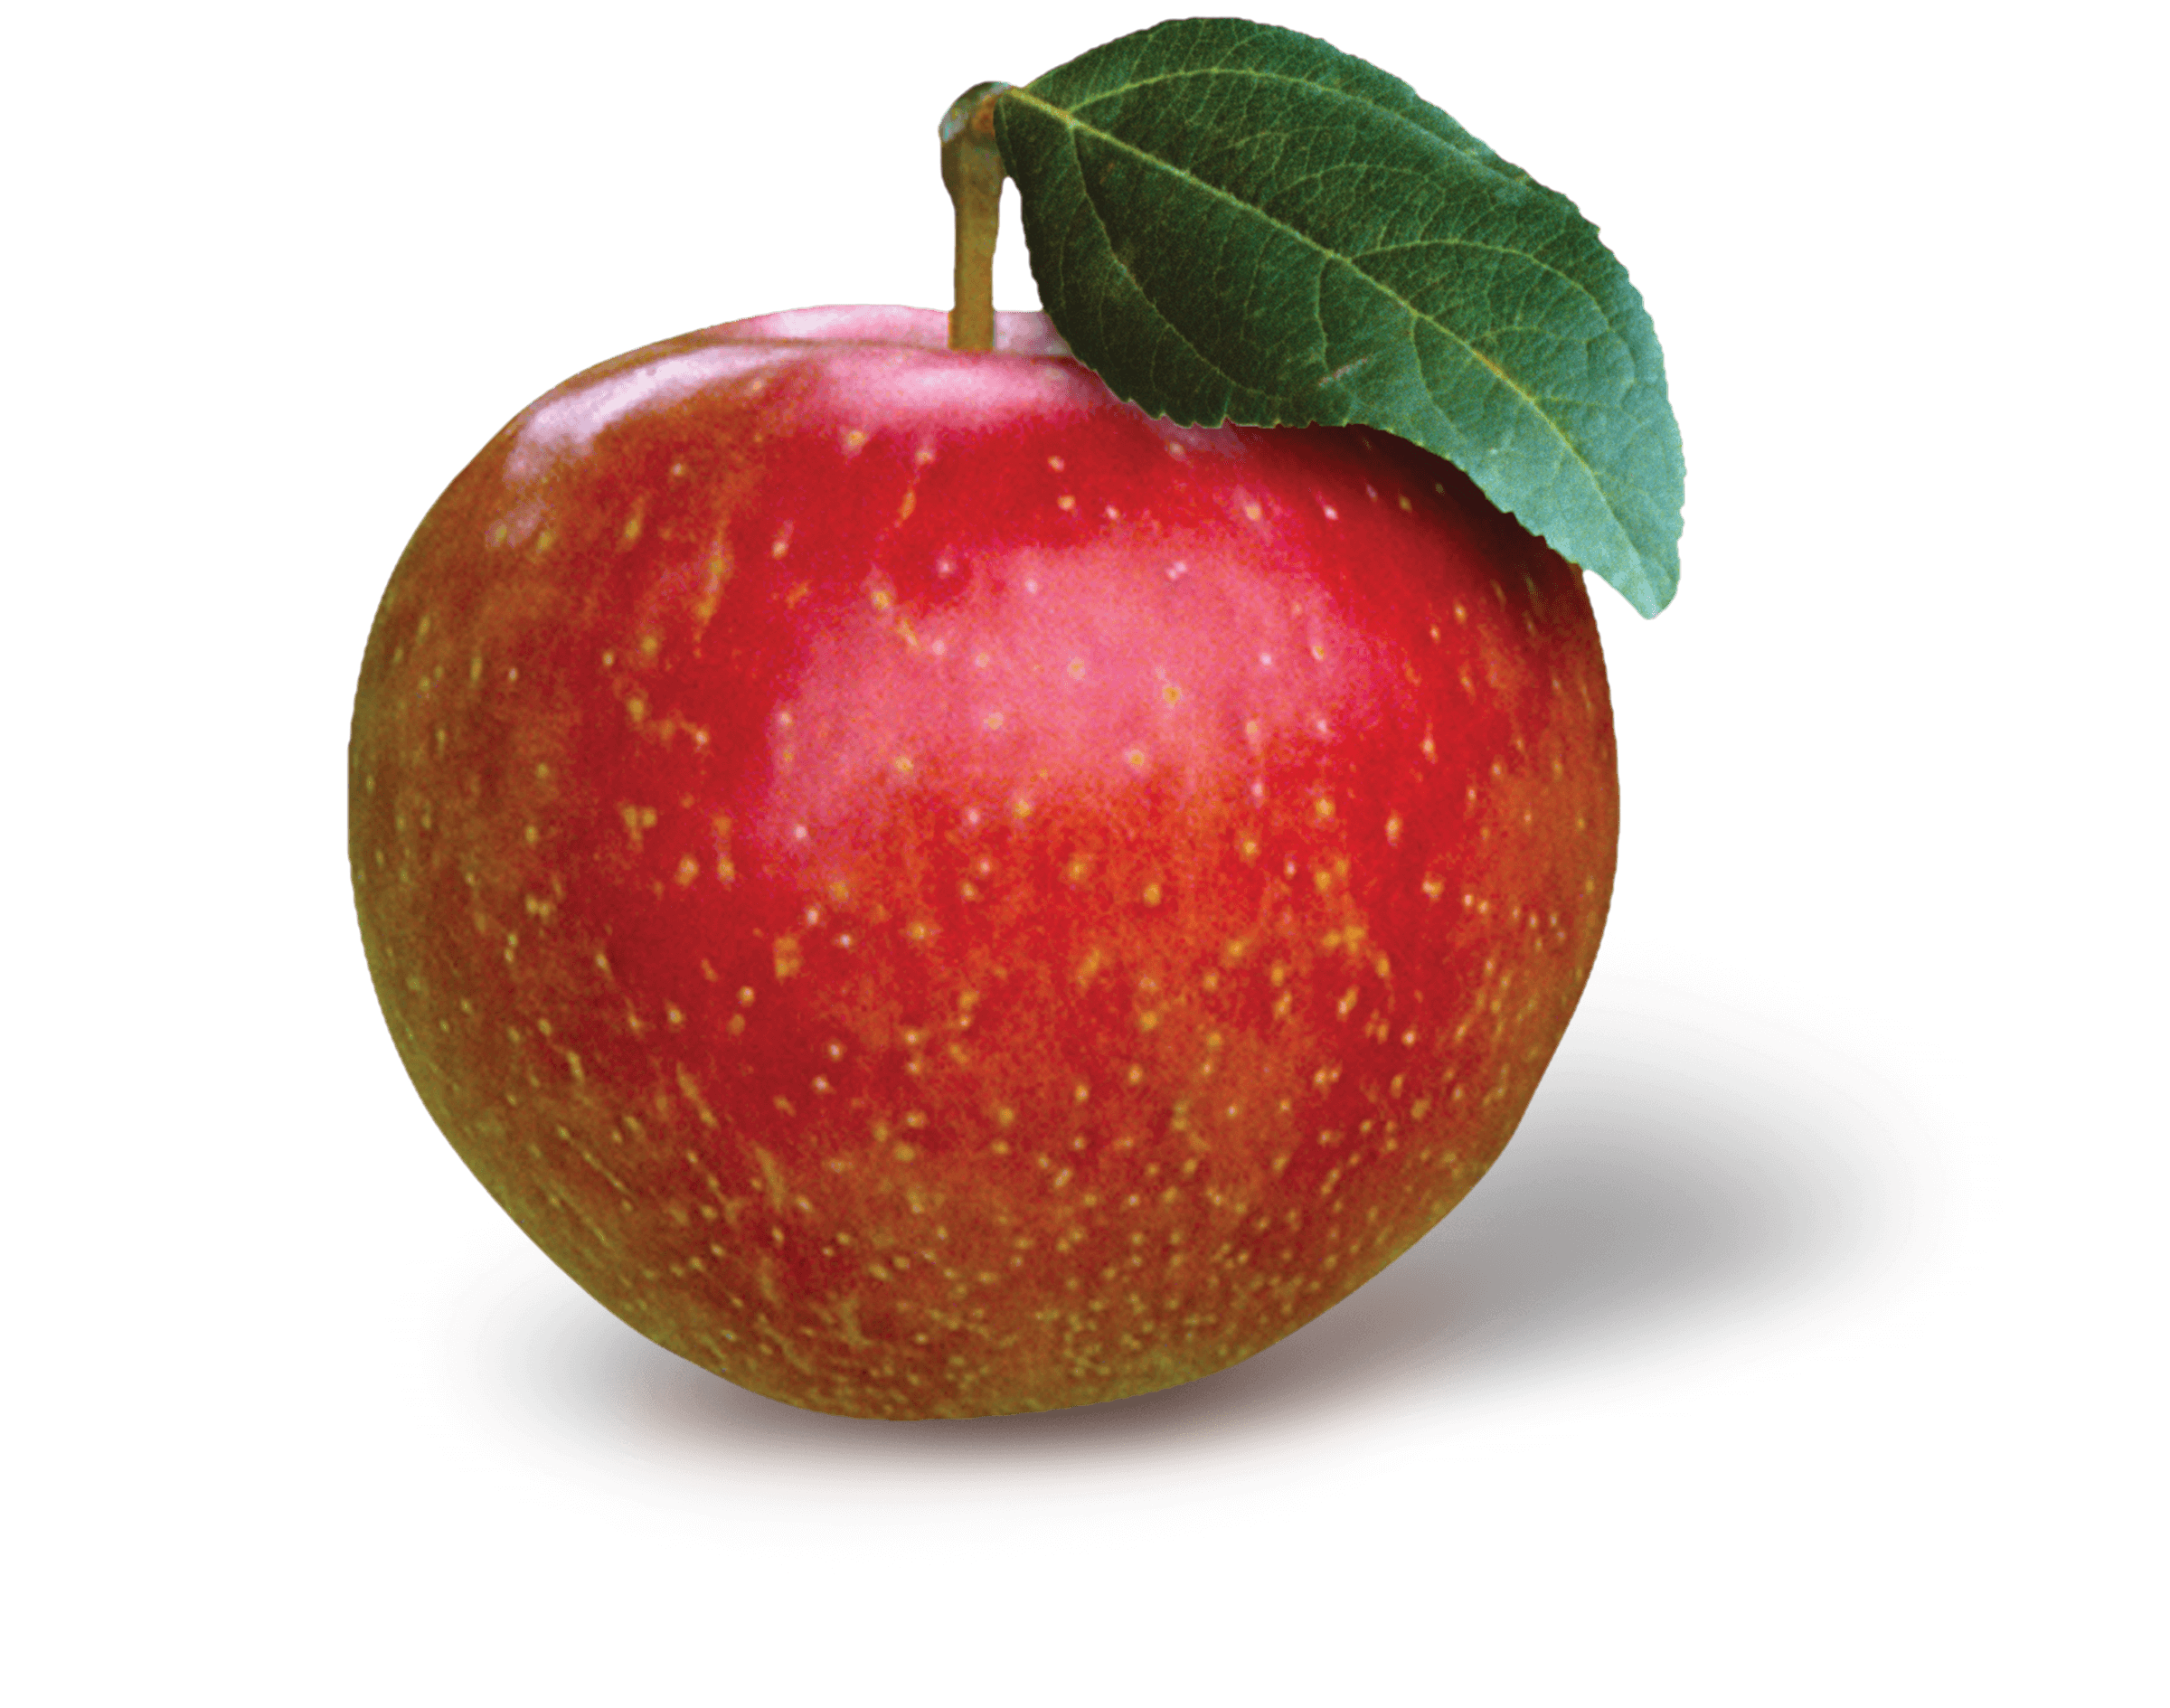apple/: (298, 4, 1731, 1521)
